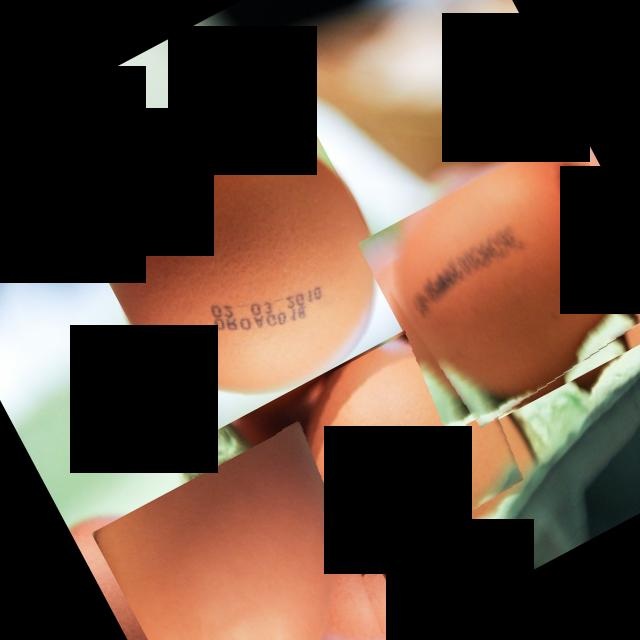eggs: (66, 84, 416, 442), (358, 129, 640, 438), (263, 307, 546, 582), (91, 420, 414, 640), (67, 487, 230, 640)
